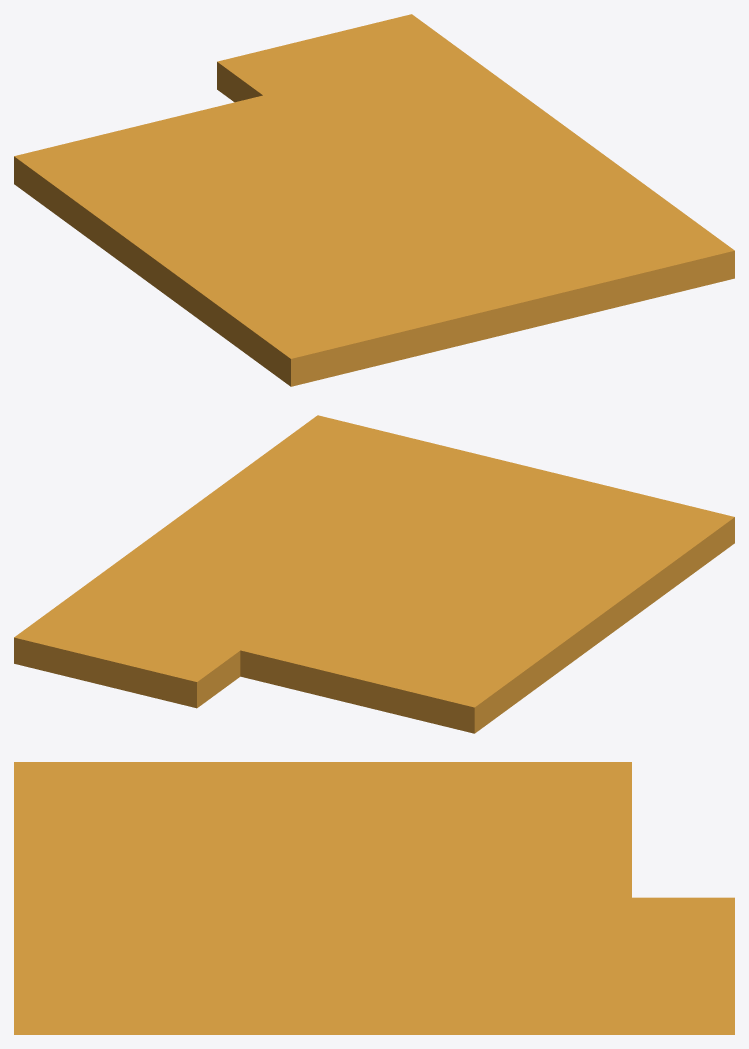
Rendered from DeckeWohnzimmer.fbx.
3 renders of one model, top to bottom at view 1: azimuth 30°, elevation 25°; view 2: azimuth 150°, elevation 25°; view 3: azimuth 270°, elevation 25°, orthographic. The views are drawn at different scales.
Visible parts, largest first — view 1: Decke; view 2: Decke; view 3: Decke.
Boxes of the visible parts, left/top/right/bottom form: Decke: left=14, top=14, right=734, bottom=386; Decke: left=14, top=415, right=734, bottom=733; Decke: left=14, top=762, right=734, bottom=1034.
Size of the model in its own units: 833 by 50 by 1050.
